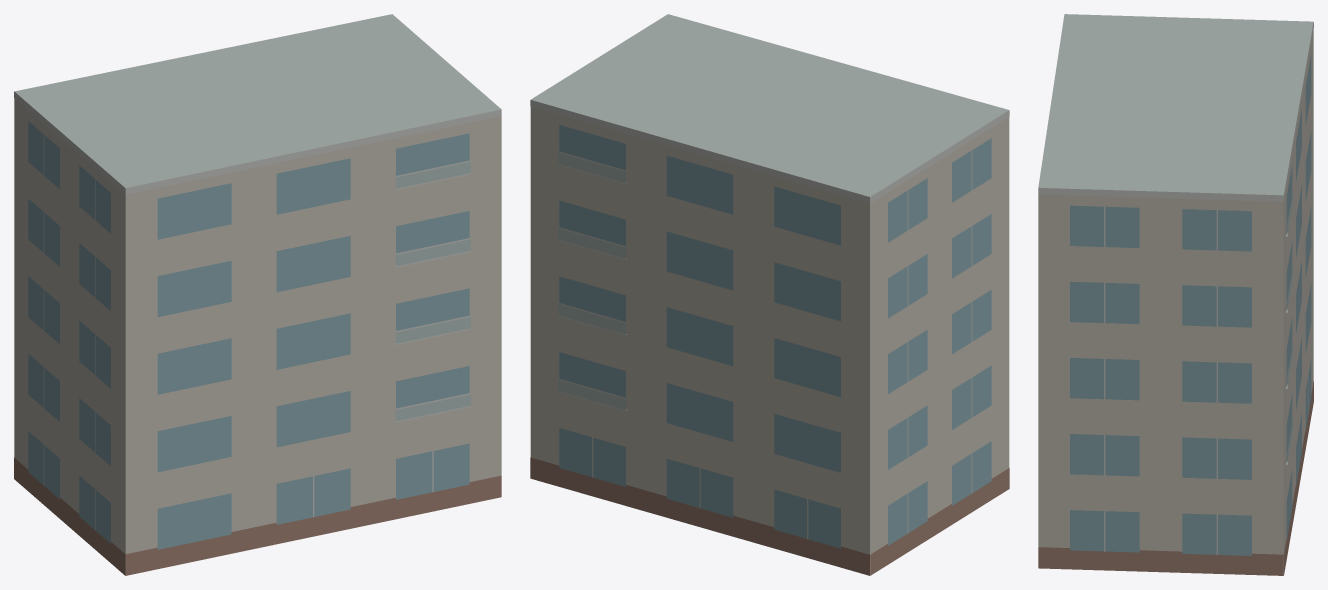
The model's file is survey-upis-32870231.glb.
The picture shows the model from 3 angles, left to right: view 1: azimuth 30°, elevation 25°; view 2: azimuth 150°, elevation 25°; view 3: azimuth 270°, elevation 25°; orthographic projection. The views are drawn at different scales.
Visible parts, largest first — view 1: survey-upis-32870231.tmp; view 2: survey-upis-32870231.tmp; view 3: survey-upis-32870231.tmp.
Part boxes in pixels (<box>): survey-upis-32870231.tmp: <box>14,14,501,575</box>; survey-upis-32870231.tmp: <box>530,14,1009,575</box>; survey-upis-32870231.tmp: <box>1038,14,1313,575</box>.
Size of the model in its own units: 14.62 by 14.3 by 9.39.
